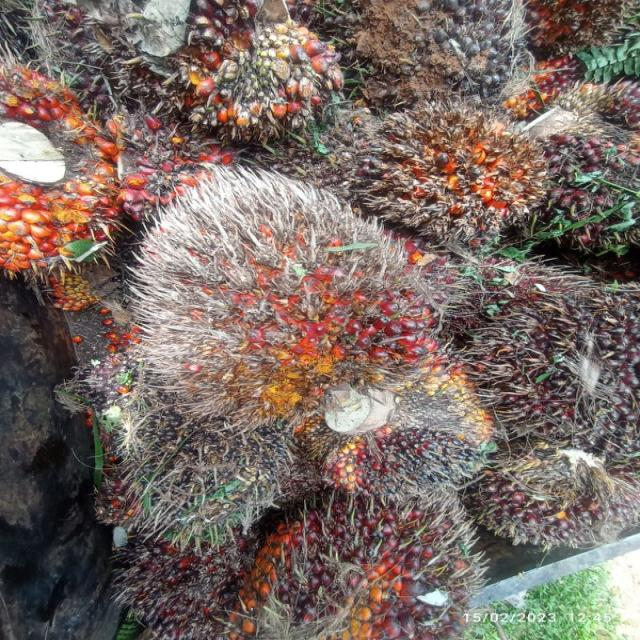fraksi 00: (90, 352, 318, 552), (464, 262, 640, 468), (320, 371, 523, 510), (8, 0, 204, 104), (463, 433, 625, 557), (102, 533, 250, 640)
fraksi 1: (226, 468, 480, 640)
fraksi 4: (100, 134, 474, 474), (322, 77, 550, 250), (0, 36, 152, 282)
